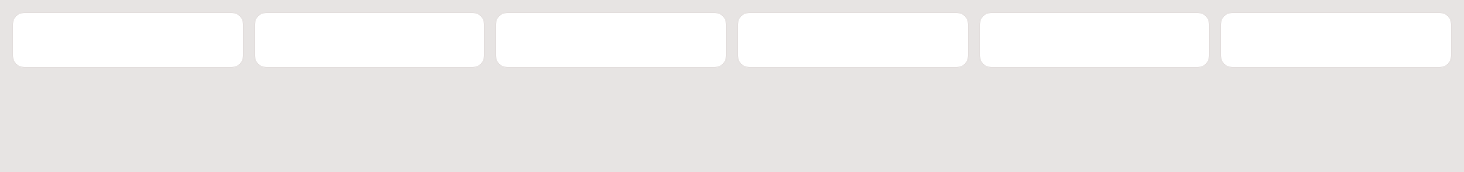
Test: OtpInput › moves on as each digit is typed, and completes once
The width and height of the screenshot is (1464, 172).
Click the field named "Digit 1 of 6" at (128, 40), box x1=12 y1=12 x2=244 y2=68
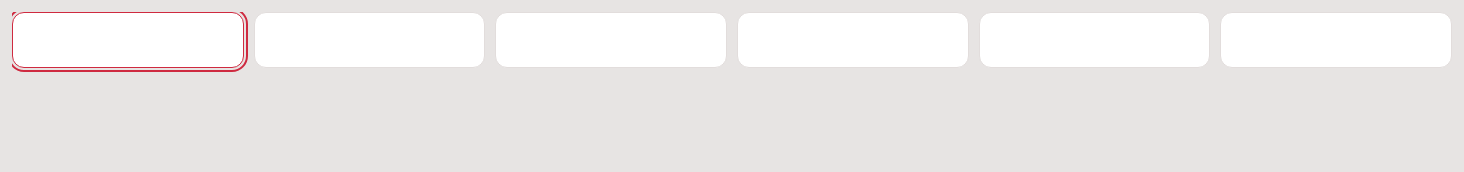
Type keys "123456"
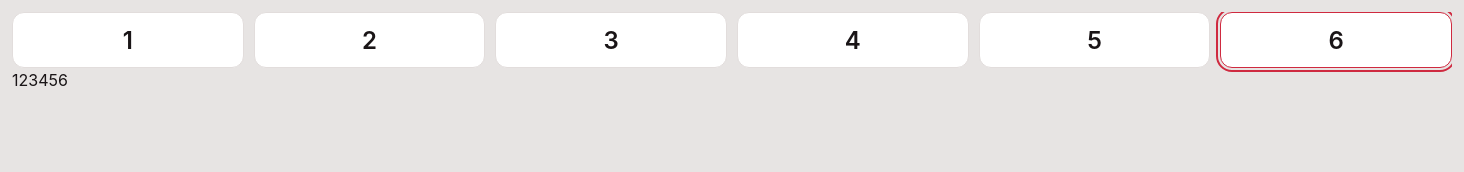
Expected: the text "123456" is shown, x1=12 y1=70 x2=68 y2=90
